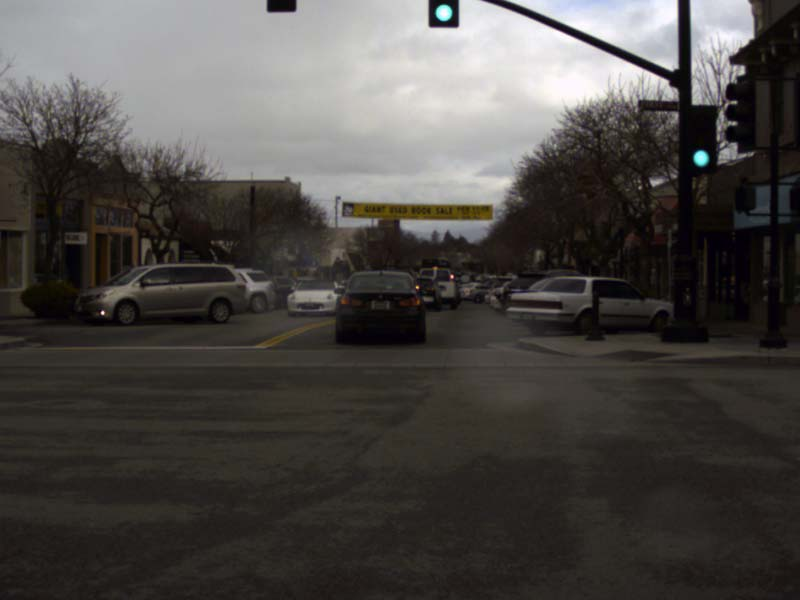Green: (688, 106, 716, 171)
